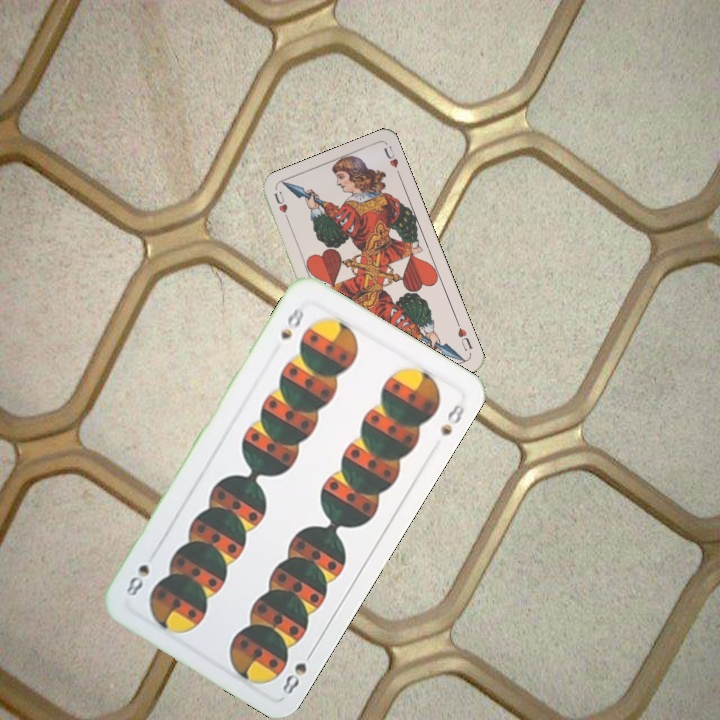HU: (270, 187, 292, 226), (452, 317, 475, 354)
S8: (278, 644, 318, 697), (276, 298, 307, 343)
